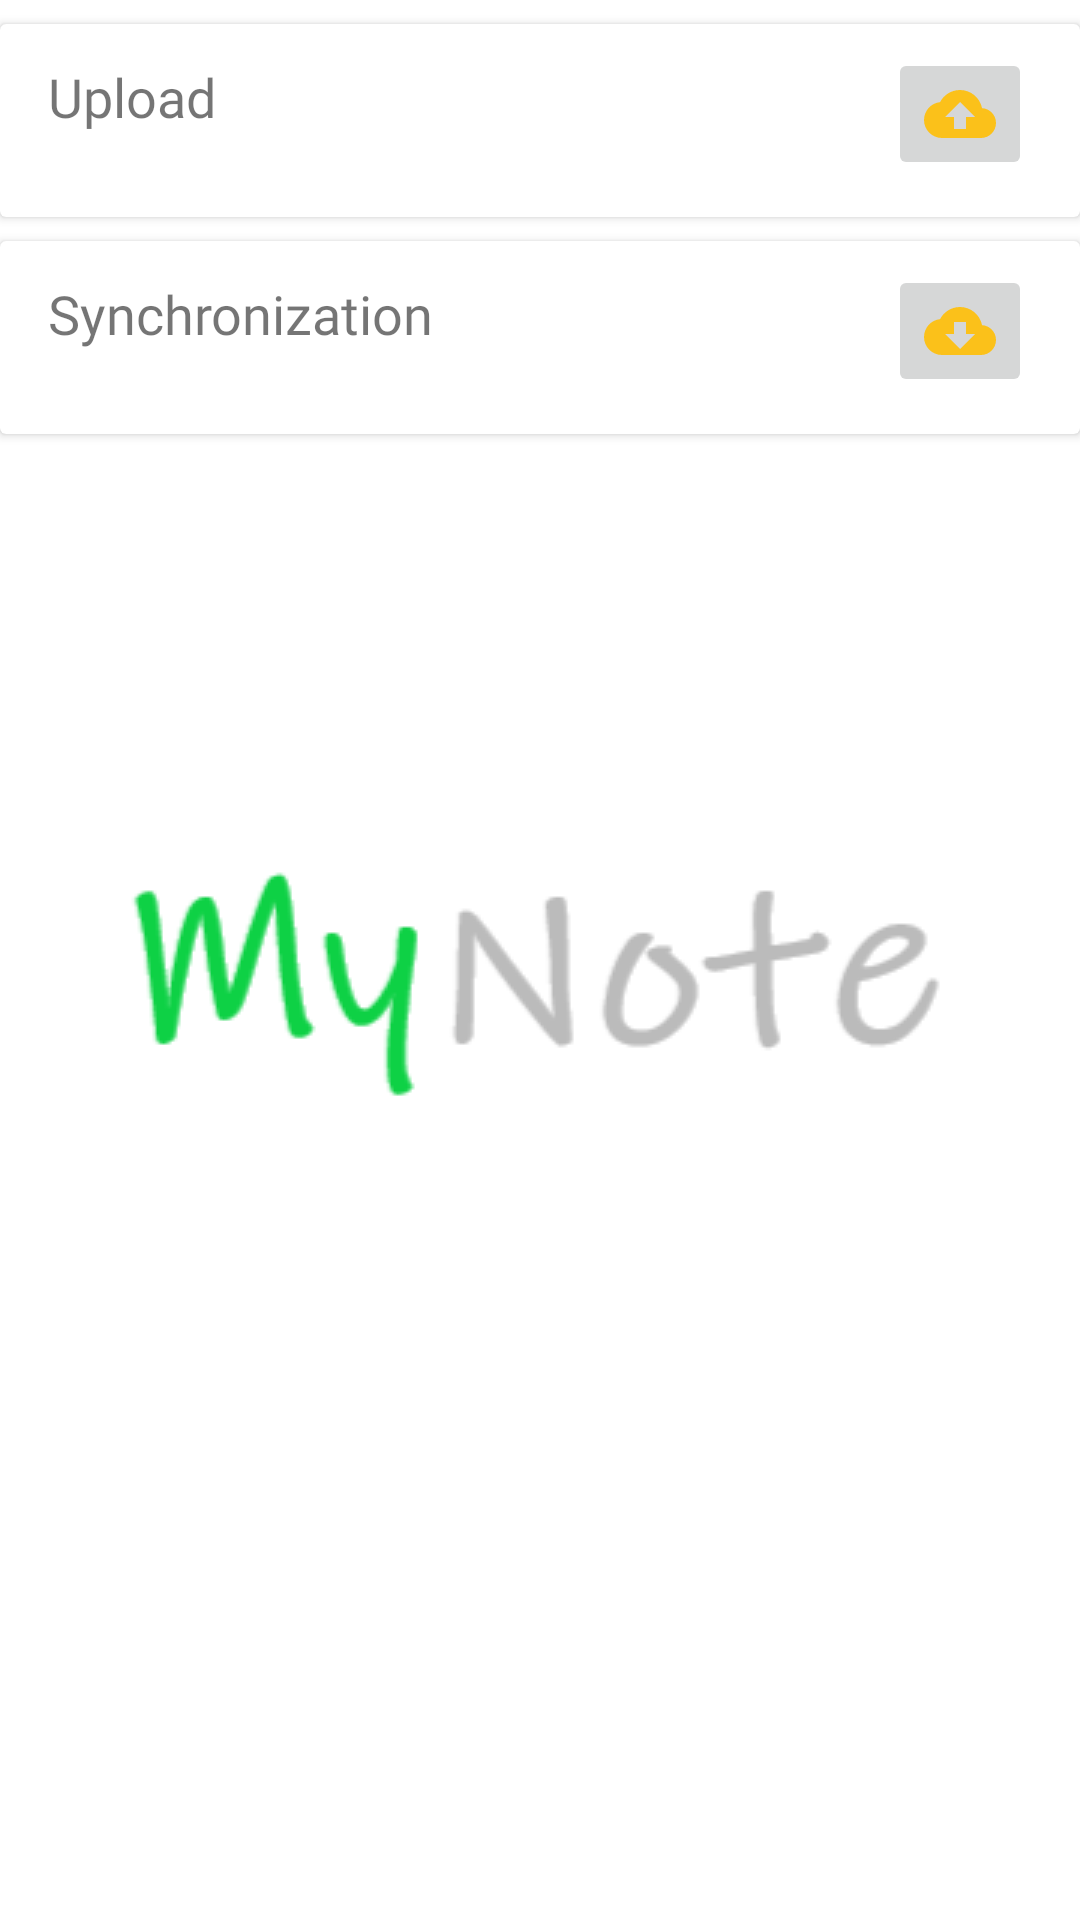

Icons on this 1080 × 1920 Android screen, each with the point to tap as (x,y):
cloud download: (960,331)
cloud upload: (960,114)
